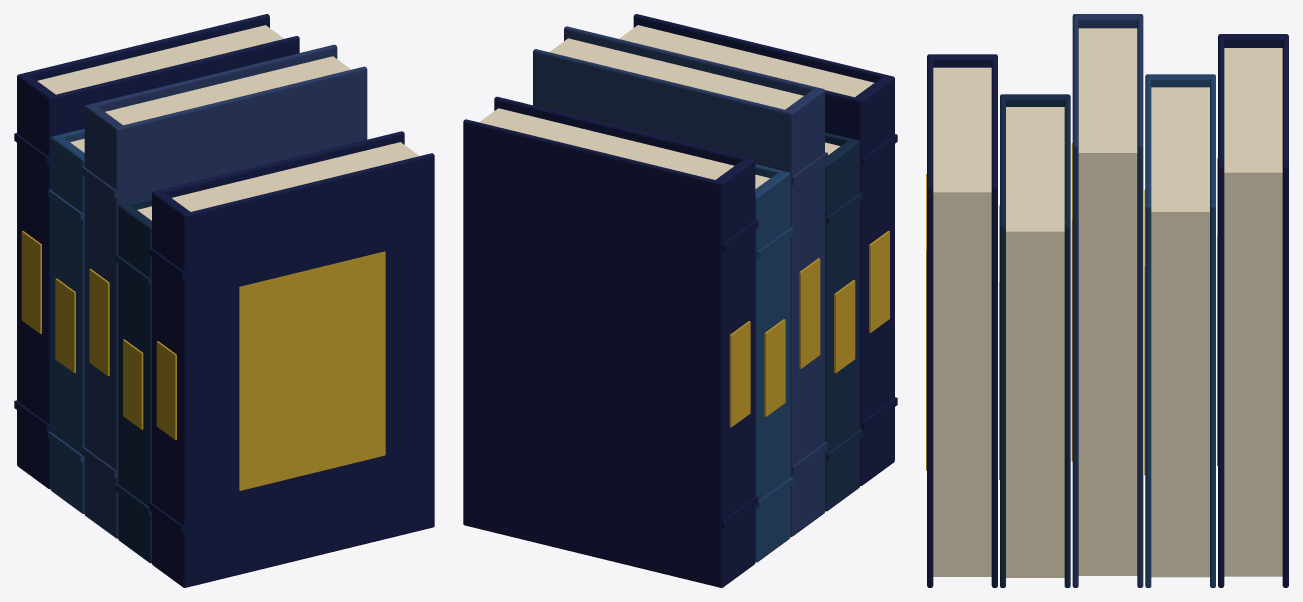
Rendered from Books2.fbx.
3 views of the same model, side by side, from view 1: azimuth 30°, elevation 25°; view 2: azimuth 150°, elevation 25°; view 3: azimuth 270°, elevation 25° (orthographic). The views are drawn at different scales.
Parts seen in each view (by area): view 1: BookRow; view 2: BookRow; view 3: BookRow.
Part boxes in pixels (box(x1,y1,x2,y2)): BookRow: box(14, 14, 434, 587); BookRow: box(463, 14, 897, 587); BookRow: box(926, 14, 1288, 587).
Bounding box in the file's own units: 15.62 × 24.2 × 17.95.
